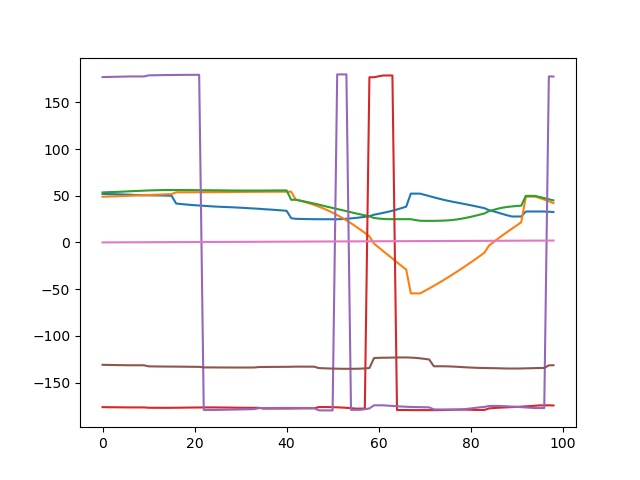Too_Fast: (1, 1, 640, 461)
